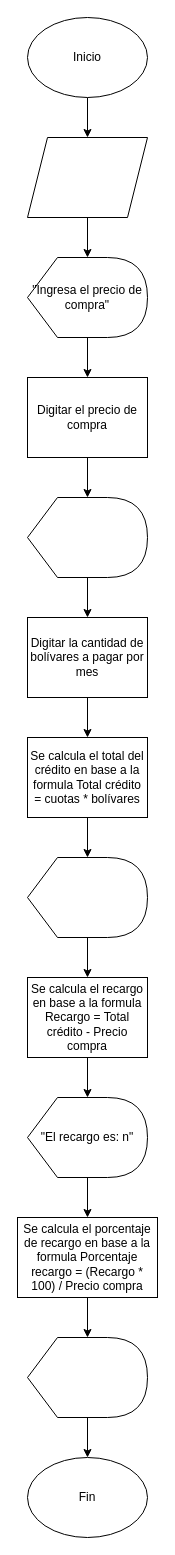
This 175x1555 diagram has some shape labels left out. Here are the shapes that lost their labels. From the top down, the centre of each, then its label:
the point at 87,177: Precio compra, Cuotas = 12, Bolivares
the point at 87,537: "Ingresa la cantidad de bolívares a pagar por mes"
the point at 87,897: "El total a pagar por el crédito es: n"
the point at 87,1377: "El porcentaje de recargo es: n %"
